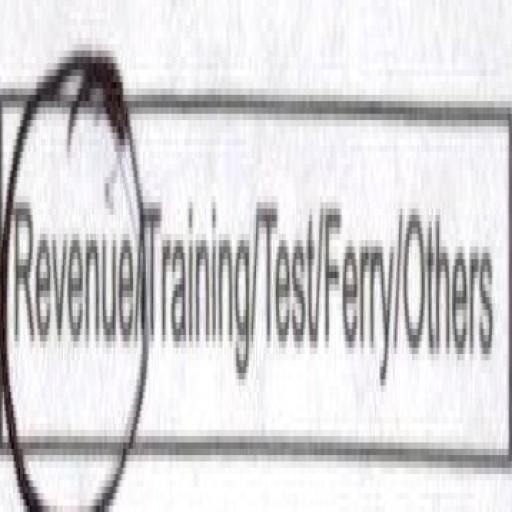check: (0, 6, 140, 506)
